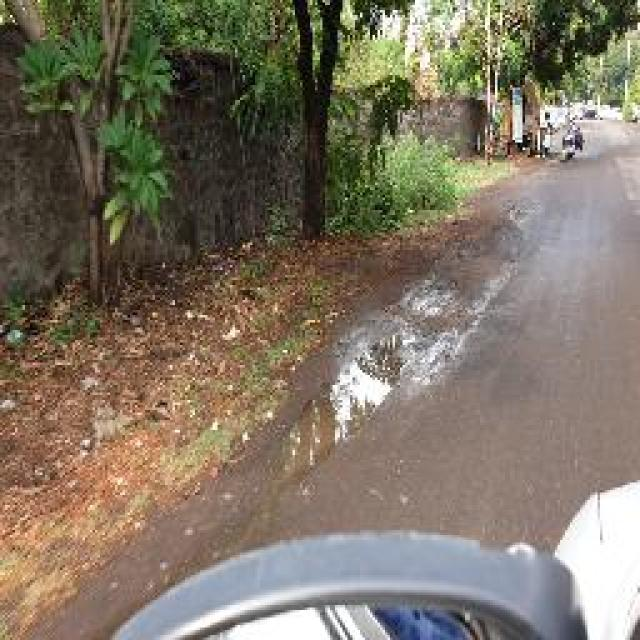stagnation: (324, 306, 454, 442)
